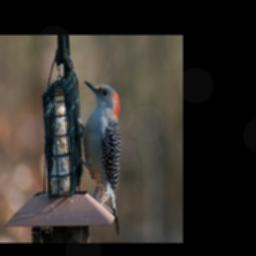Woodpecker: (75, 76, 121, 235)
